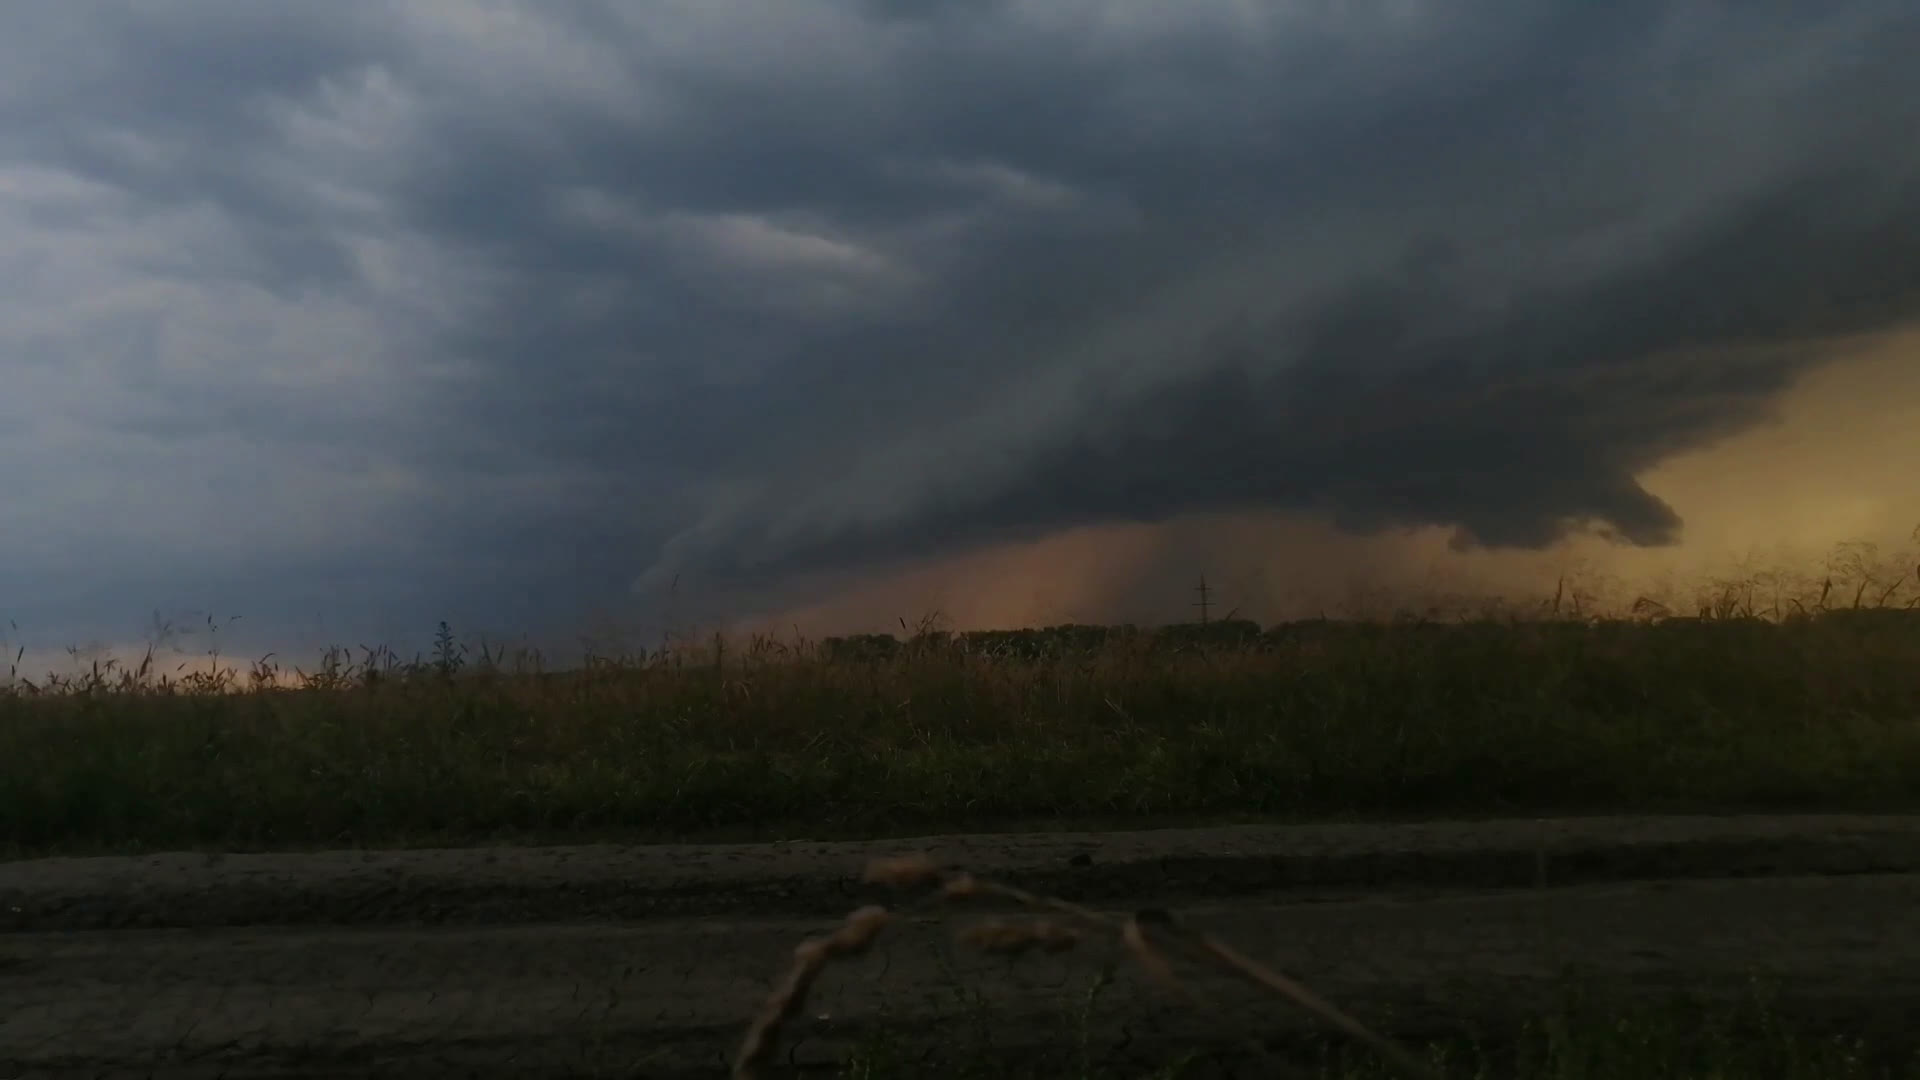FFD: (9, 583, 740, 682)
RFD: (1064, 518, 1604, 626)
mesocyclone: (198, 3, 1920, 576)
striations: (1520, 322, 1895, 425)
wall cloud: (630, 173, 1917, 579)
